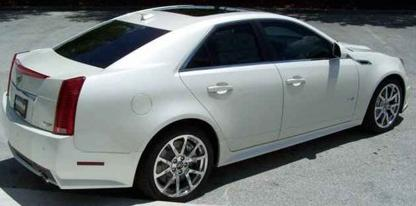back_view: (0, 48, 96, 194)
backlight: (48, 74, 92, 137)
side_glass: (175, 17, 342, 78)
